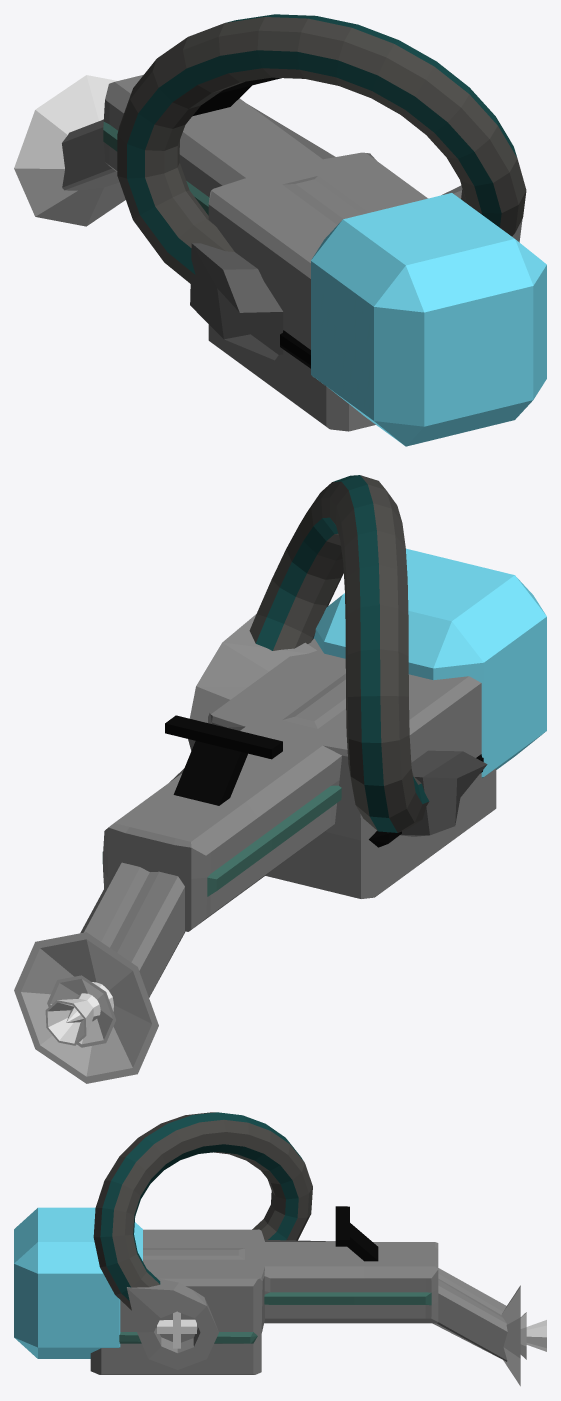
The model's file is suckgun.glb.
3 renders of one model, top to bottom at view 1: azimuth 30°, elevation 25°; view 2: azimuth 150°, elevation 25°; view 3: azimuth 270°, elevation 25°, orthographic. The views are drawn at different scales.
Parts seen in each view (by area): view 1: Cube.002, NurbsPath, Cube, Cone, Cube.001, Cube.008, Cube.006, Cube.007; view 2: Cube, NurbsPath, Cube.002, Cone, Cube.008, Cylinder, Cube.001, Cube.006; view 3: Cube, NurbsPath, Cube.002, Cylinder, Cube.005, Cone, Cube.008, Cube.003, Cube.004.
Part boxes in pixels (bbox=[...]): Cube.002: bbox=[311, 193, 546, 446]; NurbsPath: bbox=[117, 14, 526, 283]; Cube: bbox=[62, 75, 427, 431]; Cone: bbox=[14, 75, 125, 226]; Cube.001: bbox=[190, 243, 283, 360]; Cube.008: bbox=[192, 77, 281, 116]; Cube.006: bbox=[103, 122, 209, 215]; Cube.007: bbox=[280, 330, 310, 368]; Cube: bbox=[80, 638, 496, 997]; NurbsPath: bbox=[249, 475, 429, 832]; Cube.002: bbox=[313, 548, 546, 777]; Cone: bbox=[14, 932, 158, 1083]; Cube.008: bbox=[165, 715, 282, 805]; Cylinder: bbox=[188, 614, 316, 750]; Cube.001: bbox=[400, 750, 487, 836]; Cube.006: bbox=[207, 785, 341, 896]; Cube: bbox=[90, 1229, 507, 1374]; NurbsPath: bbox=[93, 1112, 312, 1310]; Cube.002: bbox=[14, 1207, 142, 1358]; Cylinder: bbox=[127, 1278, 218, 1369]; Cube.005: bbox=[264, 1292, 431, 1305]; Cone: bbox=[501, 1285, 546, 1386]; Cube.008: bbox=[335, 1206, 378, 1261]; Cube.003: bbox=[157, 1311, 196, 1348]; Cube.004: bbox=[119, 1332, 257, 1343].
Bounding box in the file's own units: 2.09 × 2.89 × 5.37.
10 materials, 1 textured.
